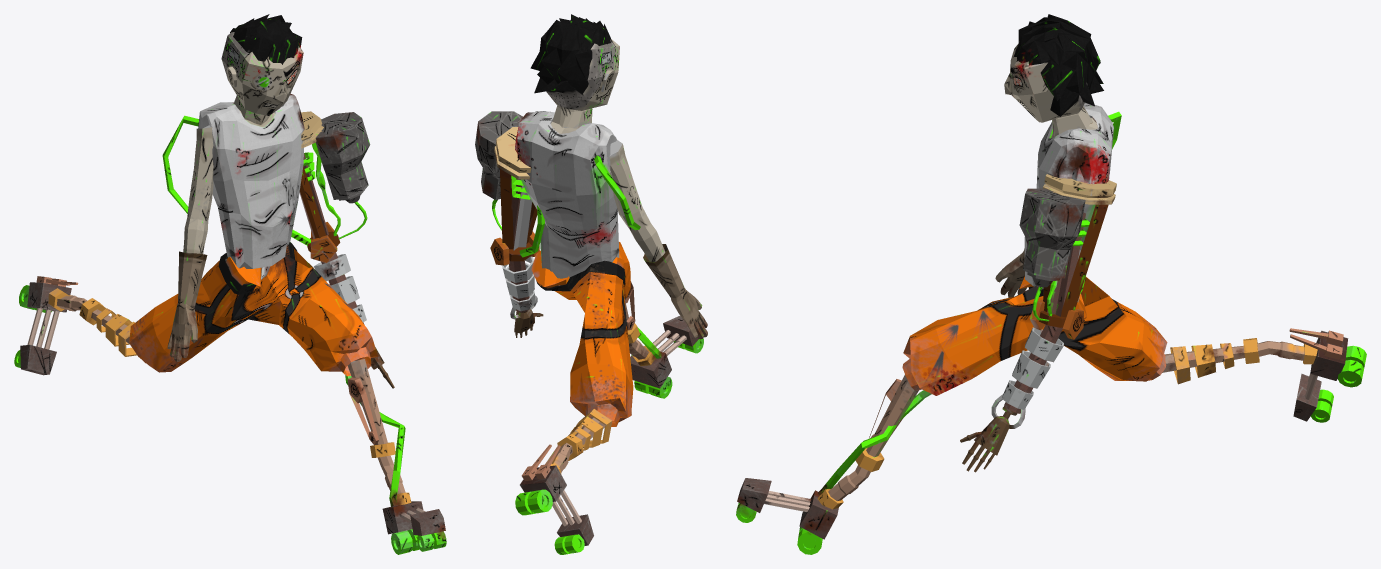
File: CyborgFINALAnimation_000001.obj
3 views of the same model, side by side, from view 1: azimuth 30°, elevation 25°; view 2: azimuth 150°, elevation 25°; view 3: azimuth 270°, elevation 25° (orthographic). The views are drawn at different scales.
Visible parts, largest first — view 1: CyborgMesh_Cube.002; view 2: CyborgMesh_Cube.002; view 3: CyborgMesh_Cube.002.
Part boxes in pixels (box(x1,y1,x2,y2)): CyborgMesh_Cube.002: box(14, 14, 446, 554); CyborgMesh_Cube.002: box(475, 14, 707, 554); CyborgMesh_Cube.002: box(736, 14, 1366, 554).
Size of the model in its own units: 4.15 by 8.08 by 9.05.
